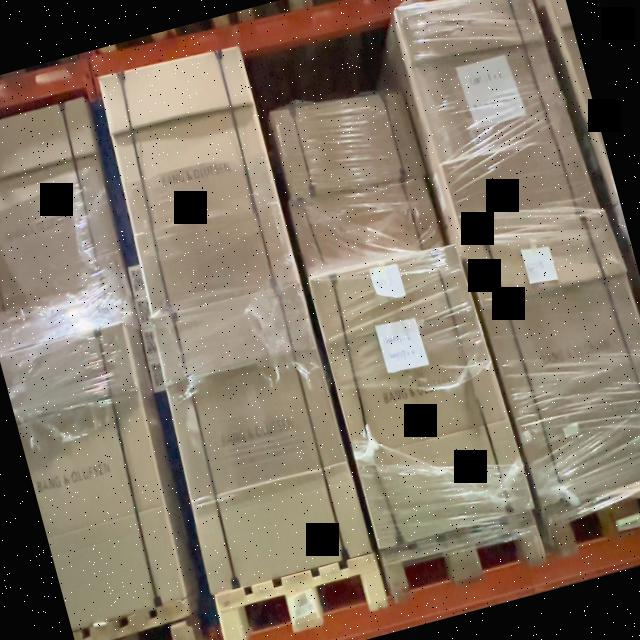box: (314, 249, 533, 545), (150, 288, 368, 584), (91, 39, 303, 323), (459, 200, 640, 500), (397, 0, 595, 238), (266, 80, 450, 282), (0, 97, 130, 327)
